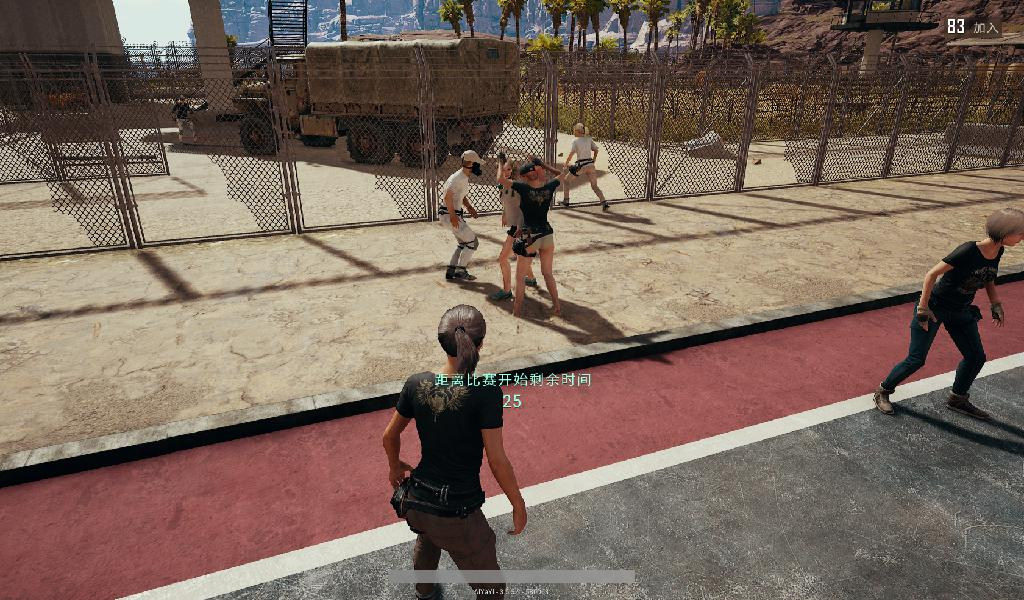Target Person: (379, 303, 529, 600), (875, 205, 1024, 428), (500, 154, 562, 319), (488, 161, 538, 301), (439, 146, 484, 291), (557, 123, 612, 217)
